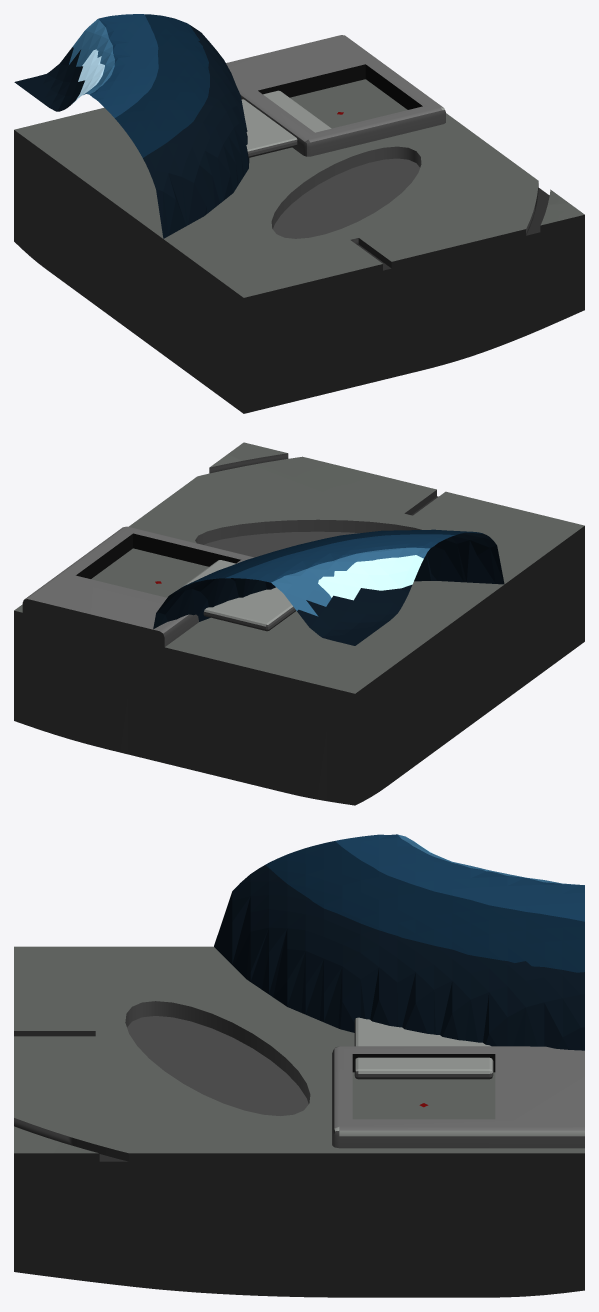
The model's file is camanis_boss_199.glb.
The picture shows the model from 3 angles, top to bottom: view 1: azimuth 30°, elevation 25°; view 2: azimuth 150°, elevation 25°; view 3: azimuth 270°, elevation 25°; orthographic projection. The views are drawn at different scales.
Parts seen in each view (by area): view 1: camanis_boss_199; view 2: camanis_boss_199; view 3: camanis_boss_199.
Boxes of the visible parts, bbox=[...] form: camanis_boss_199: bbox=[14, 14, 584, 413]; camanis_boss_199: bbox=[14, 442, 584, 805]; camanis_boss_199: bbox=[14, 834, 584, 1297].
Size of the model in its own units: 24 by 13.91 by 28.
